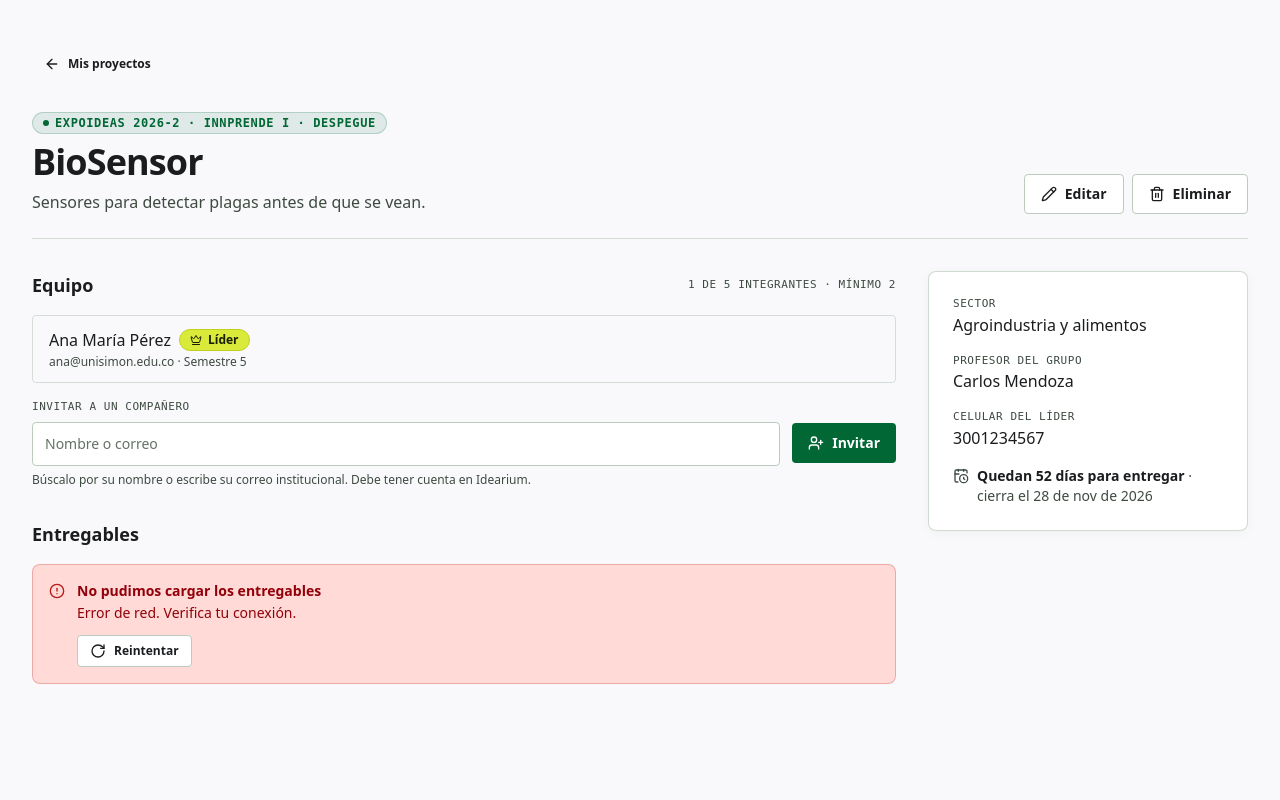
Test: El líder gestiona el equipo › rechaza un correo que no es institucional
Type "camilo@gmail.com" into the field labelled "Invitar a un compañero".
click(406, 444); type("camilo@gmail.com")  # box 32,422 -> 780,466
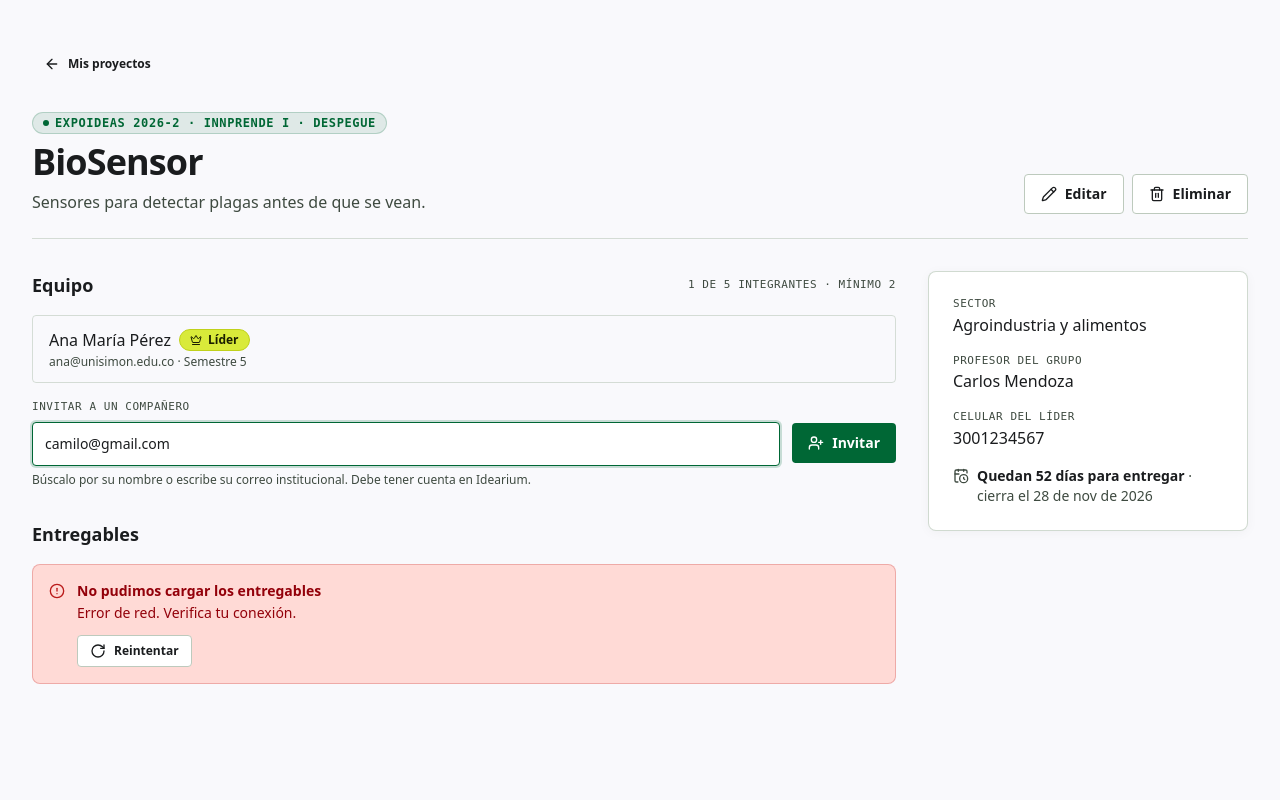
Click the button "Invitar".
click(844, 443)  # box 792,423 -> 896,463
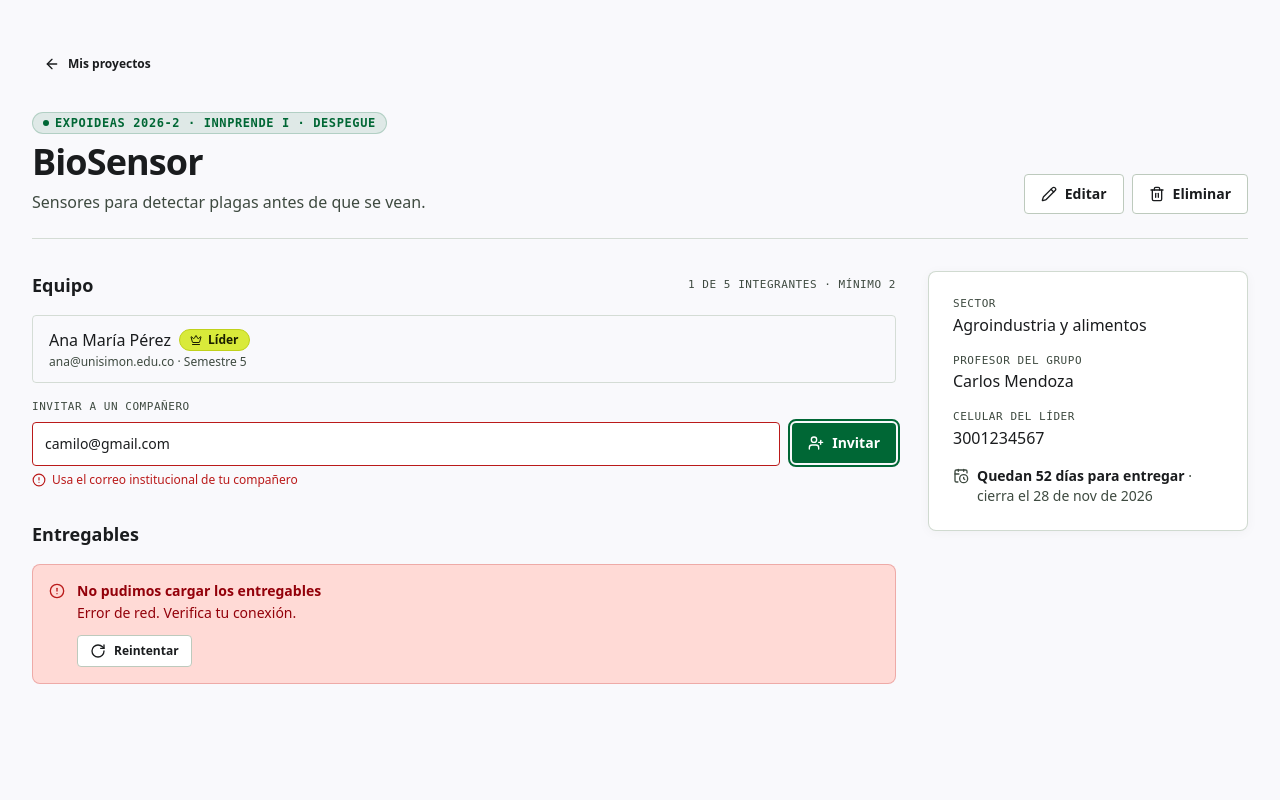
Check: the text "Usa el correo institucional de tu compañero" is shown, box 32,470 -> 298,488
